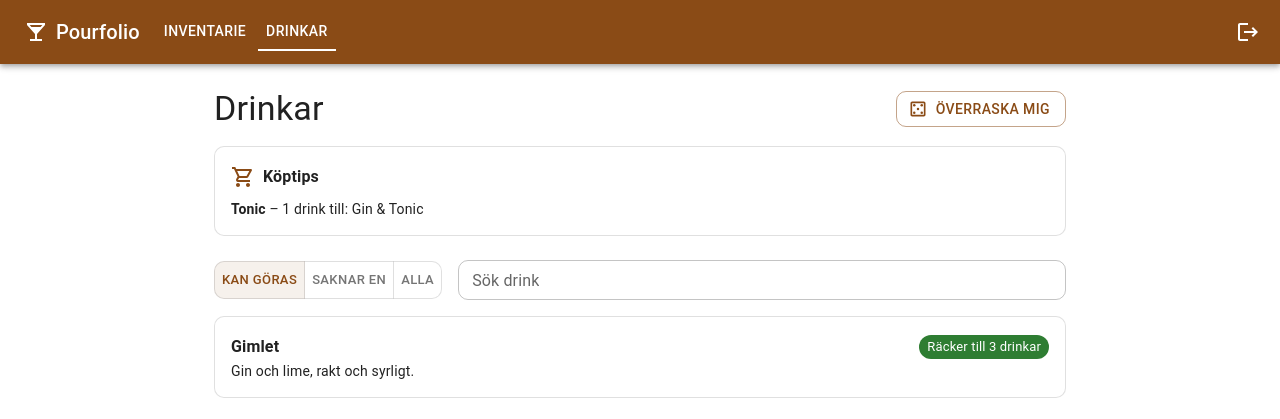
Scenario: DrinksPage › filters on recipes missing one thing and keeps the filter in the URL
expect the element "Gimlet" is shown: met, box [214,316,1066,398]
Click the button "Saknar en": (349, 280) [304,261,394,299]
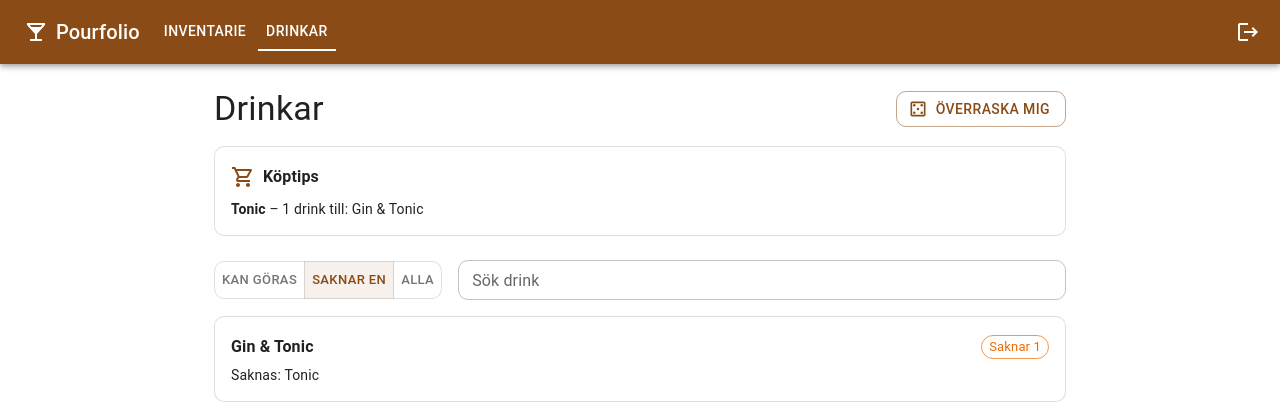
expect the text "Saknas: Tonic" is shown: met, box [231,367,319,383]
